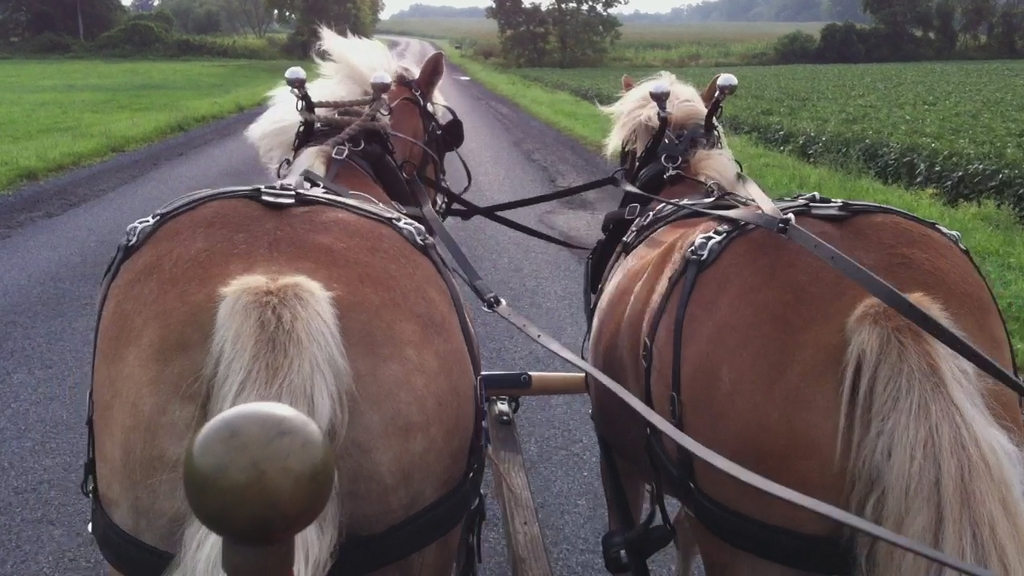Horse: (582, 69, 1024, 576), (89, 19, 481, 576)
